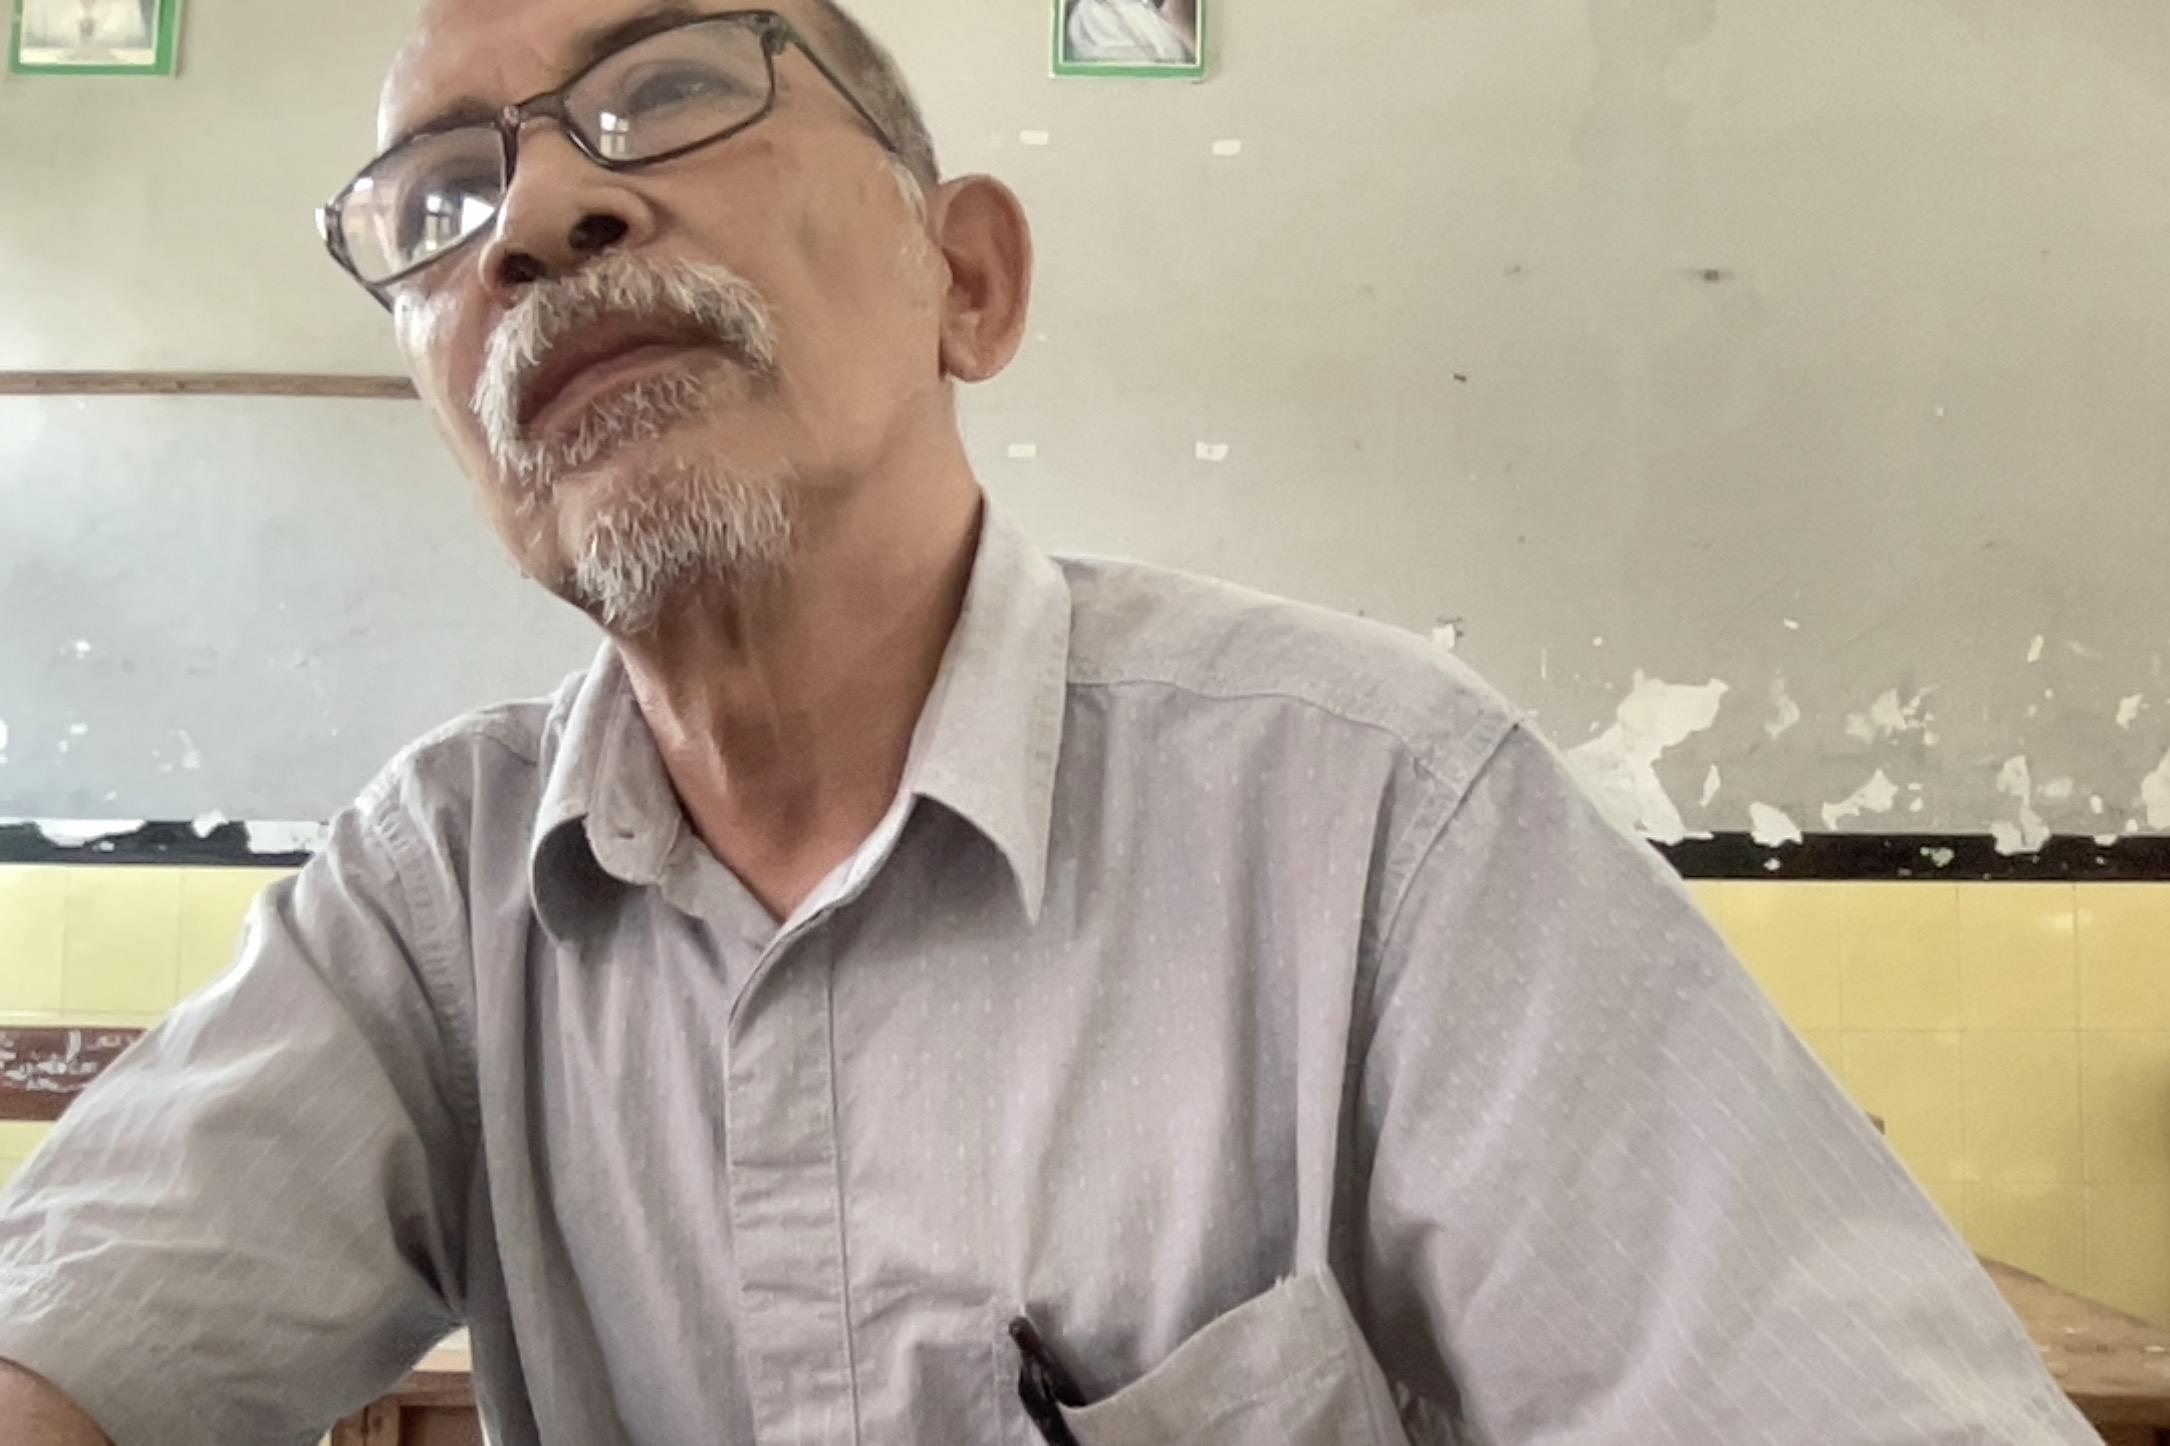cheating: (0, 11, 2170, 1446)
